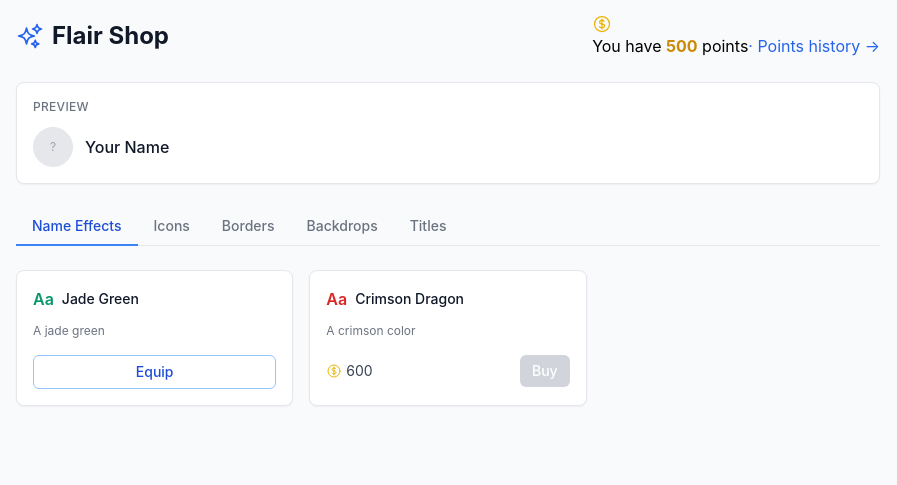
Shop page › clicking Equip on an owned item equips it by id
Click the button "Equip" at (155, 372), box top-left (33, 355), bottom-right (276, 389)
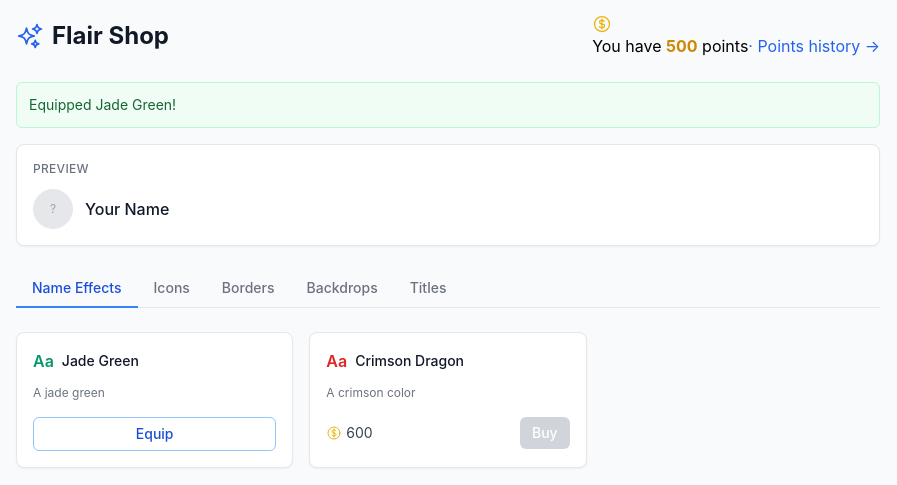
Now the text "Equipped Jade Green!" is shown, box top-left (16, 82), bottom-right (880, 128)
